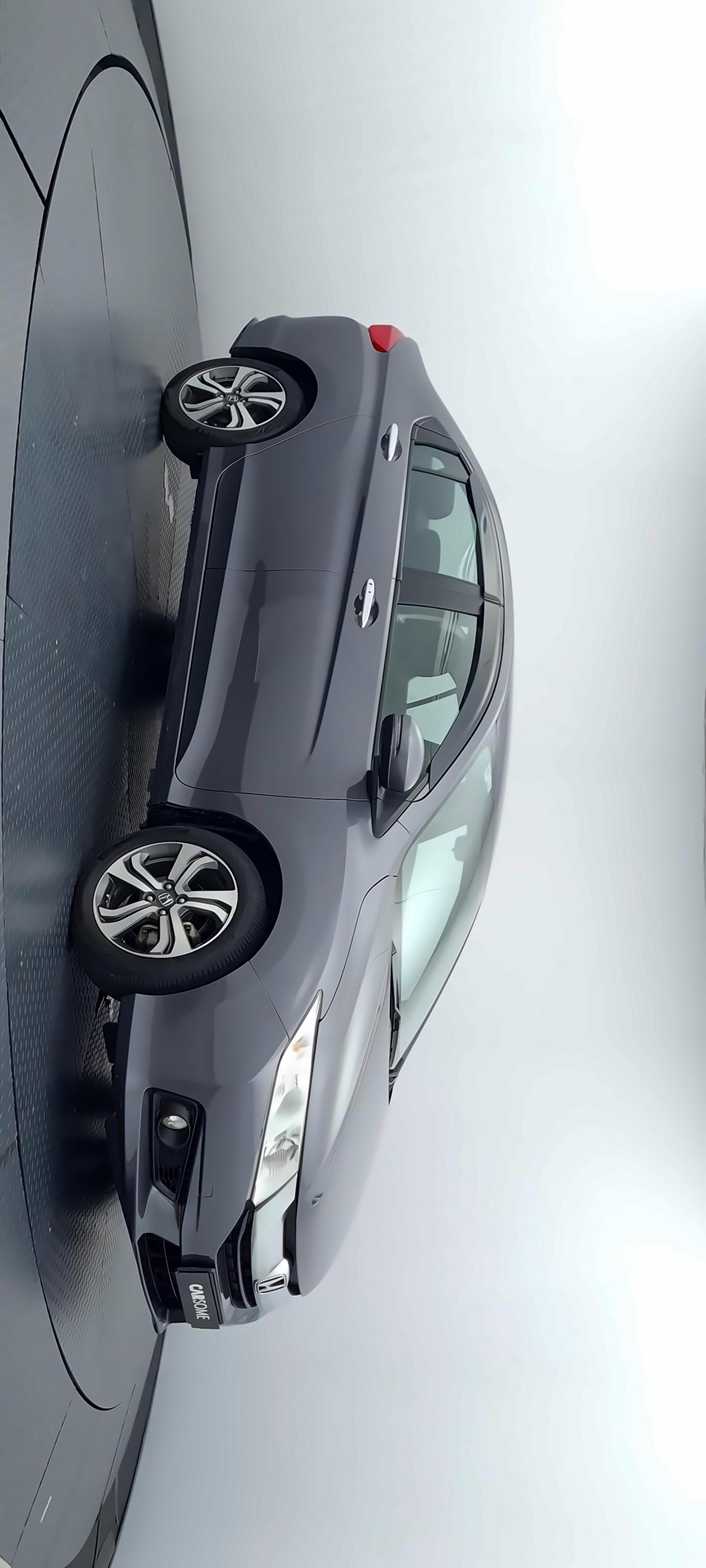Car hood: (284, 865, 396, 1301)
Driver-s door - -F-R-: (146, 558, 516, 811)
Fender - -F-R-: (147, 759, 408, 1038)
Fender - -R-R-: (230, 335, 443, 523)
Front bumper: (104, 955, 285, 1340)
Headlight - -R-: (250, 992, 325, 1208)
Passenger-s door - -F-L-: (177, 408, 530, 607)
Rear bumper: (225, 298, 379, 401)
Rear light - -R-: (362, 312, 407, 361)
Side bumper - -R-: (140, 425, 265, 826)
Side mirror - -R-: (354, 710, 427, 841)
